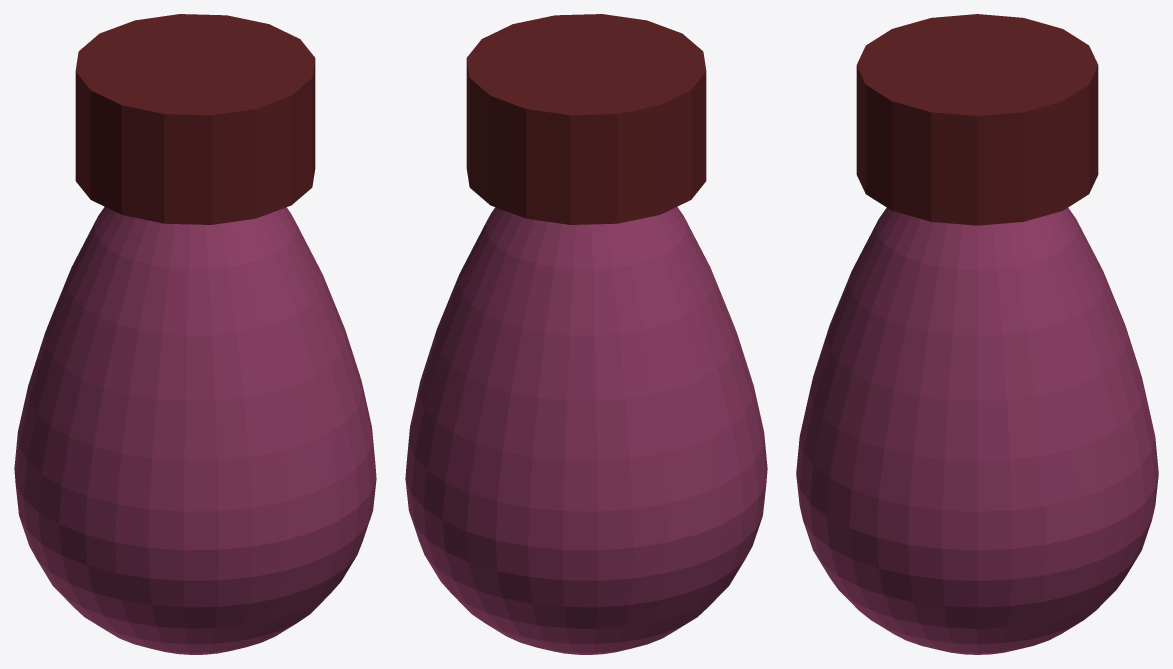
Rendered from one_bulb.gltf.
3 views of the same model, side by side, from view 1: azimuth 30°, elevation 25°; view 2: azimuth 150°, elevation 25°; view 3: azimuth 270°, elevation 25° (orthographic).
Visible parts, largest first — view 1: Kitchen, base; view 2: Kitchen, base; view 3: Kitchen, base.
Part boxes in pixels (<box>): Kitchen: <box>14,207,376,654</box>; base: <box>75,14,315,224</box>; Kitchen: <box>405,207,767,654</box>; base: <box>466,14,706,224</box>; Kitchen: <box>796,208,1158,654</box>; base: <box>856,14,1098,225</box>.
Size of what is drawn, in the model's own units: 0.6 by 1.05 by 0.6.
